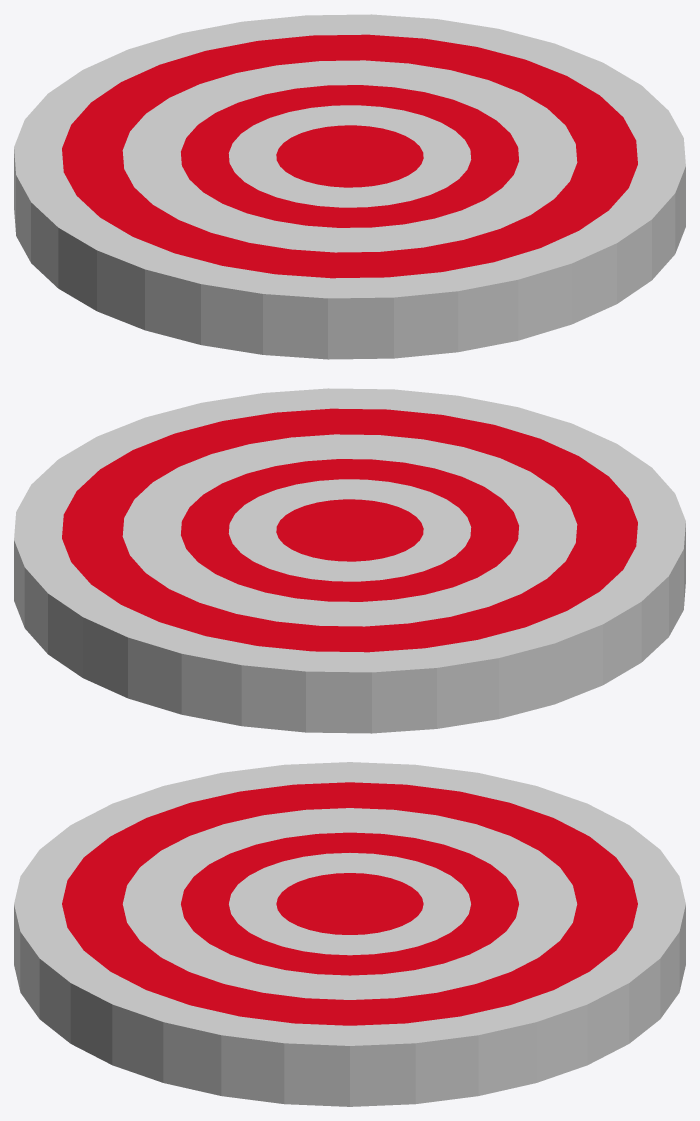
File: Target.fbx
3 views of the same model, one above another, from view 1: azimuth 30°, elevation 25°; view 2: azimuth 150°, elevation 25°; view 3: azimuth 270°, elevation 25° (orthographic).
Parts seen in each view (by area): view 1: Cylinder; view 2: Cylinder; view 3: Cylinder.
Part boxes in pixels (x1,y1,x2,y2): Cylinder: (14,14,685,359); Cylinder: (14,388,685,733); Cylinder: (14,762,685,1106).
Bounding box in the file's own units: 100 × 10 × 100.
